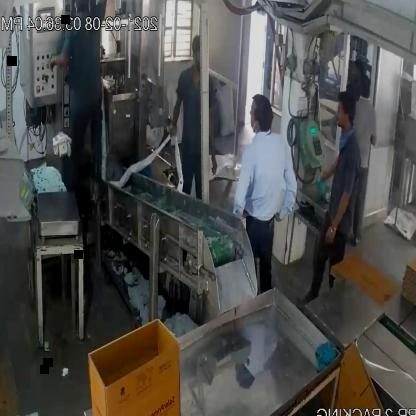no_glove: (321, 155, 356, 255), (224, 153, 253, 240), (315, 139, 346, 197), (274, 152, 298, 226), (170, 73, 187, 156), (45, 38, 76, 80), (208, 102, 217, 180)
